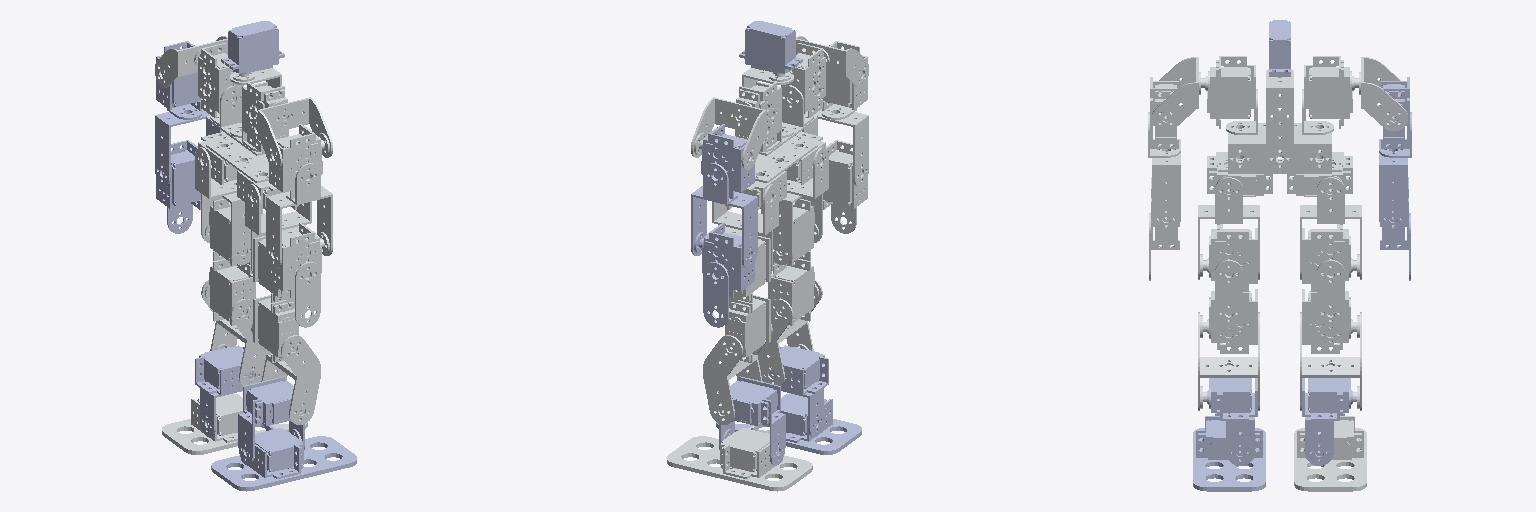
URDF robot description (robot_urdf):
<robot
  name="robot_urdf">
  <link
    name="base_link">
    <inertial>
      <origin
        xyz="-0.026014 -6.1062E-16 0.012412"
        rpy="0 0 0" />
      <mass
        value="0.26804" />
      <inertia
        ixx="0.00067143"
        ixy="1.6553E-15"
        ixz="2.7714E-05"
        iyy="0.00037219"
        iyz="1.5716E-15"
        izz="0.00039078" />
    </inertial>
    <visual>
      <origin
        xyz="0 0 0"
        rpy="0 0 0" />
      <geometry>
        <mesh
          filename="package://robot_urdf/meshes/base_link.STL" />
      </geometry>
      <material
        name="">
        <color
          rgba="0.89804 0.91765 0.92941 1" />
      </material>
    </visual>
    <collision>
      <origin
        xyz="0 0 0"
        rpy="0 0 0" />
      <geometry>
        <mesh
          filename="package://robot_urdf/meshes/base_link.STL" />
      </geometry>
    </collision>
  </link>
  <link
    name="head_1">
    <inertial>
      <origin
        xyz="0.0094985 -7.7138E-13 0.026213"
        rpy="0 0 0" />
      <mass
        value="0.030555" />
      <inertia
        ixx="4.56E-06"
        ixy="3.5175E-17"
        ixz="-8.9188E-08"
        iyy="7.9745E-06"
        iyz="2.2524E-16"
        izz="5.365E-06" />
    </inertial>
    <visual>
      <origin
        xyz="0 0 0"
        rpy="0 0 0" />
      <geometry>
        <mesh
          filename="package://robot_urdf/meshes/head_1.STL" />
      </geometry>
      <material
        name="">
        <color
          rgba="0.79216 0.81961 0.93333 1" />
      </material>
    </visual>
    <collision>
      <origin
        xyz="0 0 0"
        rpy="0 0 0" />
      <geometry>
        <mesh
          filename="package://robot_urdf/meshes/head_1.STL" />
      </geometry>
    </collision>
  </link>
  <joint
    name="joint_head_1"
    type="revolute">
    <origin
      xyz="-0.031 0 0.0685"
      rpy="-2.584E-16 7.2563E-16 8.3587E-16" />
    <parent
      link="base_link" />
    <child
      link="head_1" />
    <axis
      xyz="0 0 1" />
    <limit
      lower="-1.57"
      upper="1.57"
      effort="0"
      velocity="0" />
  </joint>
  <link
    name="right_hand_1">
    <inertial>
      <origin
        xyz="0.0020155 -0.012559 -0.0076349"
        rpy="0 0 0" />
      <mass
        value="0.021634" />
      <inertia
        ixx="6.3375E-06"
        ixy="6.9579E-07"
        ixz="5.9752E-07"
        iyy="1.3125E-05"
        iyz="-2.2288E-06"
        izz="1.3703E-05" />
    </inertial>
    <visual>
      <origin
        xyz="0 0 0"
        rpy="0 0 0" />
      <geometry>
        <mesh
          filename="package://robot_urdf/meshes/right_hand_1.STL" />
      </geometry>
      <material
        name="">
        <color
          rgba="0.89804 0.91765 0.92941 1" />
      </material>
    </visual>
    <collision>
      <origin
        xyz="0 0 0"
        rpy="0 0 0" />
      <geometry>
        <mesh
          filename="package://robot_urdf/meshes/right_hand_1.STL" />
      </geometry>
    </collision>
  </link>
  <joint
    name="joint_right_hand_1"
    type="revolute">
    <origin
      xyz="-0.031 -0.07075 0.05845"
      rpy="-4.9304E-32 3.8268E-16 0" />
    <parent
      link="base_link" />
    <child
      link="right_hand_1" />
    <axis
      xyz="0 1 0" />
    <limit
      lower="-3.14"
      upper="1.57"
      effort="0"
      velocity="0" />
  </joint>
  <link
    name="right_hand_2">
    <inertial>
      <origin
        xyz="-0.027049 -0.0021334 -0.030077"
        rpy="0 0 0" />
      <mass
        value="0.076885" />
      <inertia
        ixx="7.9207E-05"
        ixy="-4.3941E-07"
        ixz="6.9333E-06"
        iyy="9.5553E-05"
        iyz="2.7716E-06"
        izz="2.5515E-05" />
    </inertial>
    <visual>
      <origin
        xyz="0 0 0"
        rpy="0 0 0" />
      <geometry>
        <mesh
          filename="package://robot_urdf/meshes/right_hand_2.STL" />
      </geometry>
      <material
        name="">
        <color
          rgba="0.89804 0.91765 0.92941 1" />
      </material>
    </visual>
    <collision>
      <origin
        xyz="0 0 0"
        rpy="0 0 0" />
      <geometry>
        <mesh
          filename="package://robot_urdf/meshes/right_hand_2.STL" />
      </geometry>
    </collision>
  </link>
  <joint
    name="joint_right_hand_2"
    type="revolute">
    <origin
      xyz="0.025 -0.028517 -0.021339"
      rpy="0 1.6093E-15 0" />
    <parent
      link="right_hand_1" />
    <child
      link="right_hand_2" />
    <axis
      xyz="1 0 0" />
    <limit
      lower="-1.57"
      upper="1.25"
      effort="0"
      velocity="0" />
  </joint>
  <link
    name="right_hand_3">
    <inertial>
      <origin
        xyz="-0.028802 -0.003964 -0.013378"
        rpy="0 0 0" />
      <mass
        value="0.052976" />
      <inertia
        ixx="1.8917E-05"
        ixy="4.0398E-08"
        ixz="6.6663E-07"
        iyy="2.3107E-05"
        iyz="-2.1536E-06"
        izz="1.0756E-05" />
    </inertial>
    <visual>
      <origin
        xyz="0 0 0"
        rpy="0 0 0" />
      <geometry>
        <mesh
          filename="package://robot_urdf/meshes/right_hand_3.STL" />
      </geometry>
      <material
        name="">
        <color
          rgba="0.89804 0.91765 0.92941 1" />
      </material>
    </visual>
    <collision>
      <origin
        xyz="0 0 0"
        rpy="0 0 0" />
      <geometry>
        <mesh
          filename="package://robot_urdf/meshes/right_hand_3.STL" />
      </geometry>
    </collision>
  </link>
  <joint
    name="joint_right_hand_3"
    type="revolute">
    <origin
      xyz="0 0.0005 -0.0966"
      rpy="-1.8813E-15 -1.1659E-15 1.0546E-16" />
    <parent
      link="right_hand_2" />
    <child
      link="right_hand_3" />
    <axis
      xyz="1 0 0" />
    <limit
      lower="-1.57"
      upper="1.57"
      effort="0"
      velocity="0" />
  </joint>
  <link
    name="left_hand_1">
    <inertial>
      <origin
        xyz="0.0020155 0.012559 -0.0076349"
        rpy="0 0 0" />
      <mass
        value="0.021634" />
      <inertia
        ixx="6.3375E-06"
        ixy="-6.9579E-07"
        ixz="5.9752E-07"
        iyy="1.3125E-05"
        iyz="2.2288E-06"
        izz="1.3703E-05" />
    </inertial>
    <visual>
      <origin
        xyz="0 0 0"
        rpy="0 0 0" />
      <geometry>
        <mesh
          filename="package://robot_urdf/meshes/left_hand_1.STL" />
      </geometry>
      <material
        name="">
        <color
          rgba="0.89804 0.91765 0.92941 1" />
      </material>
    </visual>
    <collision>
      <origin
        xyz="0 0 0"
        rpy="0 0 0" />
      <geometry>
        <mesh
          filename="package://robot_urdf/meshes/left_hand_1.STL" />
      </geometry>
    </collision>
  </link>
  <joint
    name="joint_left_hand_1"
    type="revolute">
    <origin
      xyz="-0.031 0.07075 0.05845"
      rpy="-2.584E-16 -6.4535E-17 8.3587E-16" />
    <parent
      link="base_link" />
    <child
      link="left_hand_1" />
    <axis
      xyz="0 1 0" />
    <limit
      lower="-3.14"
      upper="1.57"
      effort="0"
      velocity="0" />
  </joint>
  <link
    name="left_hand_2">
    <inertial>
      <origin
        xyz="-0.027049 0.0021334 -0.030077"
        rpy="0 0 0" />
      <mass
        value="0.076885" />
      <inertia
        ixx="7.9207E-05"
        ixy="4.3941E-07"
        ixz="6.9333E-06"
        iyy="9.5553E-05"
        iyz="-2.7716E-06"
        izz="2.5515E-05" />
    </inertial>
    <visual>
      <origin
        xyz="0 0 0"
        rpy="0 0 0" />
      <geometry>
        <mesh
          filename="package://robot_urdf/meshes/left_hand_2.STL" />
      </geometry>
      <material
        name="">
        <color
          rgba="0.79216 0.81961 0.93333 1" />
      </material>
    </visual>
    <collision>
      <origin
        xyz="0 0 0"
        rpy="0 0 0" />
      <geometry>
        <mesh
          filename="package://robot_urdf/meshes/left_hand_2.STL" />
      </geometry>
    </collision>
  </link>
  <joint
    name="joint_left_hand_2"
    type="revolute">
    <origin
      xyz="0.025 0.028517 -0.021339"
      rpy="2.584E-16 2.022E-31 -8.3587E-16" />
    <parent
      link="left_hand_1" />
    <child
      link="left_hand_2" />
    <axis
      xyz="1 0 0" />
    <limit
      lower="-1.57"
      upper="1.25"
      effort="0"
      velocity="0" />
  </joint>
  <link
    name="left_hand_3">
    <inertial>
      <origin
        xyz="-0.028791 0.003964 -0.013378"
        rpy="0 0 0" />
      <mass
        value="0.052976" />
      <inertia
        ixx="1.8917E-05"
        ixy="-4.6738E-08"
        ixz="6.8211E-07"
        iyy="2.3112E-05"
        iyz="2.1536E-06"
        izz="1.0761E-05" />
    </inertial>
    <visual>
      <origin
        xyz="0 0 0"
        rpy="0 0 0" />
      <geometry>
        <mesh
          filename="package://robot_urdf/meshes/left_hand_3.STL" />
      </geometry>
      <material
        name="">
        <color
          rgba="0.79216 0.81961 0.93333 1" />
      </material>
    </visual>
    <collision>
      <origin
        xyz="0 0 0"
        rpy="0 0 0" />
      <geometry>
        <mesh
          filename="package://robot_urdf/meshes/left_hand_3.STL" />
      </geometry>
    </collision>
  </link>
  <joint
    name="joint_left_hand_3"
    type="revolute">
    <origin
      xyz="0 -0.0005 -0.0966"
      rpy="0 -1.6115E-15 0" />
    <parent
      link="left_hand_2" />
    <child
      link="left_hand_3" />
    <axis
      xyz="1 0 0" />
    <limit
      lower="-1.57"
      upper="1.57"
      effort="0"
      velocity="0" />
  </joint>
  <link
    name="right_leg_1">
    <inertial>
      <origin
        xyz="-0.023975 -0.0010249 -0.03898"
        rpy="0 0 0" />
      <mass
        value="0.042544" />
      <inertia
        ixx="4.3606E-05"
        ixy="-4.4687E-08"
        ixz="-1.6996E-06"
        iyy="4.0286E-05"
        iyz="-1.963E-06"
        izz="2.4473E-05" />
    </inertial>
    <visual>
      <origin
        xyz="0 0 0"
        rpy="0 0 0" />
      <geometry>
        <mesh
          filename="package://robot_urdf/meshes/right_leg_1.STL" />
      </geometry>
      <material
        name="">
        <color
          rgba="0.89804 0.91765 0.92941 1" />
      </material>
    </visual>
    <collision>
      <origin
        xyz="0 0 0"
        rpy="0 0 0" />
      <geometry>
        <mesh
          filename="package://robot_urdf/meshes/right_leg_1.STL" />
      </geometry>
    </collision>
  </link>
  <joint
    name="joint_right_leg_1"
    type="revolute">
    <origin
      xyz="0.004 -0.04435 -0.028"
      rpy="1.8457E-15 3.8268E-16 4.1426E-16" />
    <parent
      link="base_link" />
    <child
      link="right_leg_1" />
    <axis
      xyz="1 0 0" />
    <limit
      lower="-1.57"
      upper="1.57"
      effort="0"
      velocity="0" />
  </joint>
  <link
    name="right_leg_2">
    <inertial>
      <origin
        xyz="0.0032312 0.029057 -0.019963"
        rpy="0 0 0" />
      <mass
        value="0.099063" />
      <inertia
        ixx="0.00011361"
        ixy="-2.0421E-07"
        ixz="-2.0047E-08"
        iyy="0.00010487"
        iyz="-1.9602E-07"
        izz="2.0234E-05" />
    </inertial>
    <visual>
      <origin
        xyz="0 0 0"
        rpy="0 0 0" />
      <geometry>
        <mesh
          filename="package://robot_urdf/meshes/right_leg_2.STL" />
      </geometry>
      <material
        name="">
        <color
          rgba="0.89804 0.91765 0.92941 1" />
      </material>
    </visual>
    <collision>
      <origin
        xyz="0 0 0"
        rpy="0 0 0" />
      <geometry>
        <mesh
          filename="package://robot_urdf/meshes/right_leg_2.STL" />
      </geometry>
    </collision>
  </link>
  <joint
    name="joint_right_leg_2"
    type="revolute">
    <origin
      xyz="-0.025 -0.025 -0.084"
      rpy="1.6653E-15 -5.5511E-17 -1.2507E-15" />
    <parent
      link="right_leg_1" />
    <child
      link="right_leg_2" />
    <axis
      xyz="0 1 0" />
    <limit
      lower="-1.57"
      upper="1.57"
      effort="0"
      velocity="0" />
  </joint>
  <link
    name="right_leg_3">
    <inertial>
      <origin
        xyz="0.010766 0.022736 -0.031442"
        rpy="0 0 0" />
      <mass
        value="0.038521" />
      <inertia
        ixx="3.5399E-05"
        ixy="-5.7571E-07"
        ixz="1.8525E-06"
        iyy="1.8914E-05"
        iyz="-3.2324E-08"
        izz="2.2522E-05" />
    </inertial>
    <visual>
      <origin
        xyz="0 0 0"
        rpy="0 0 0" />
      <geometry>
        <mesh
          filename="package://robot_urdf/meshes/right_leg_3.STL" />
      </geometry>
      <material
        name="">
        <color
          rgba="0.89804 0.91765 0.92941 1" />
      </material>
    </visual>
    <collision>
      <origin
        xyz="0 0 0"
        rpy="0 0 0" />
      <geometry>
        <mesh
          filename="package://robot_urdf/meshes/right_leg_3.STL" />
      </geometry>
    </collision>
  </link>
  <joint
    name="joint_right_leg_3"
    type="revolute">
    <origin
      xyz="0 0 -0.059"
      rpy="-2.0295E-15 -9.1175E-31 1.9364E-15" />
    <parent
      link="right_leg_2" />
    <child
      link="right_leg_3" />
    <axis
      xyz="0 1 0" />
    <limit
      lower="-1.57"
      upper="1.57"
      effort="0"
      velocity="0" />
  </joint>
  <link
    name="right_leg_4">
    <inertial>
      <origin
        xyz="-0.0088796 0.030994 -0.0098426"
        rpy="0 0 0" />
      <mass
        value="0.064833" />
      <inertia
        ixx="2.331E-05"
        ixy="-7.0675E-08"
        ixz="1.5242E-06"
        iyy="3.2842E-05"
        iyz="2.2093E-06"
        izz="2.6247E-05" />
    </inertial>
    <visual>
      <origin
        xyz="0 0 0"
        rpy="0 0 0" />
      <geometry>
        <mesh
          filename="package://robot_urdf/meshes/right_leg_4.STL" />
      </geometry>
      <material
        name="">
        <color
          rgba="0.79216 0.81961 0.93333 1" />
      </material>
    </visual>
    <collision>
      <origin
        xyz="0 0 0"
        rpy="0 0 0" />
      <geometry>
        <mesh
          filename="package://robot_urdf/meshes/right_leg_4.STL" />
      </geometry>
    </collision>
  </link>
  <joint
    name="joint_right_leg_4"
    type="revolute">
    <origin
      xyz="0.008328 0 -0.063626"
      rpy="1.9207E-16 -2.5376E-16 4.6465E-16" />
    <parent
      link="right_leg_3" />
    <child
      link="right_leg_4" />
    <axis
      xyz="0 1 0" />
    <limit
      lower="-1.57"
      upper="1.57"
      effort="0"
      velocity="0" />
  </joint>
  <link
    name="right_leg_5">
    <inertial>
      <origin
        xyz="-0.022794 -0.0096022 -0.010163"
        rpy="0 0 0" />
      <mass
        value="0.11322" />
      <inertia
        ixx="3.9994E-05"
        ixy="-6.3439E-08"
        ixz="3.6969E-06"
        iyy="0.00010224"
        iyz="-4.9441E-08"
        izz="0.00012785" />
    </inertial>
    <visual>
      <origin
        xyz="0 0 0"
        rpy="0 0 0" />
      <geometry>
        <mesh
          filename="package://robot_urdf/meshes/right_leg_5.STL" />
      </geometry>
      <material
        name="">
        <color
          rgba="0.79216 0.81961 0.93333 1" />
      </material>
    </visual>
    <collision>
      <origin
        xyz="0 0 0"
        rpy="0 0 0" />
      <geometry>
        <mesh
          filename="package://robot_urdf/meshes/right_leg_5.STL" />
      </geometry>
    </collision>
  </link>
  <joint
    name="joint_right_leg_5"
    type="revolute">
    <origin
      xyz="0.0154 0.035 -0.0455"
      rpy="0 1.6494E-32 0" />
    <parent
      link="right_leg_4" />
    <child
      link="right_leg_5" />
    <axis
      xyz="1 0 0" />
    <limit
      lower="-1.57"
      upper="1.57"
      effort="0"
      velocity="0" />
  </joint>
  <link
    name="left_leg_1">
    <inertial>
      <origin
        xyz="-0.023975 0.0010249 -0.03898"
        rpy="0 0 0" />
      <mass
        value="0.042544" />
      <inertia
        ixx="4.3606E-05"
        ixy="4.4687E-08"
        ixz="-1.6996E-06"
        iyy="4.0286E-05"
        iyz="1.963E-06"
        izz="2.4473E-05" />
    </inertial>
    <visual>
      <origin
        xyz="0 0 0"
        rpy="0 0 0" />
      <geometry>
        <mesh
          filename="package://robot_urdf/meshes/left_leg_1.STL" />
      </geometry>
      <material
        name="">
        <color
          rgba="0.89804 0.91765 0.92941 1" />
      </material>
    </visual>
    <collision>
      <origin
        xyz="0 0 0"
        rpy="0 0 0" />
      <geometry>
        <mesh
          filename="package://robot_urdf/meshes/left_leg_1.STL" />
      </geometry>
    </collision>
  </link>
  <joint
    name="joint_left_leg_1"
    type="revolute">
    <origin
      xyz="0.004 0.04435 -0.028"
      rpy="1.8457E-15 1.5211E-16 4.1426E-16" />
    <parent
      link="base_link" />
    <child
      link="left_leg_1" />
    <axis
      xyz="1 0 0" />
    <limit
      lower="-1.57"
      upper="1.57"
      effort="0"
      velocity="0" />
  </joint>
  <link
    name="left_leg_2">
    <inertial>
      <origin
        xyz="0.0032312 -0.029057 -0.019963"
        rpy="0 0 0" />
      <mass
        value="0.099063" />
      <inertia
        ixx="0.00011361"
        ixy="2.0421E-07"
        ixz="-2.0047E-08"
        iyy="0.00010487"
        iyz="1.9602E-07"
        izz="2.0234E-05" />
    </inertial>
    <visual>
      <origin
        xyz="0 0 0"
        rpy="0 0 0" />
      <geometry>
        <mesh
          filename="package://robot_urdf/meshes/left_leg_2.STL" />
      </geometry>
      <material
        name="">
        <color
          rgba="0.89804 0.91765 0.92941 1" />
      </material>
    </visual>
    <collision>
      <origin
        xyz="0 0 0"
        rpy="0 0 0" />
      <geometry>
        <mesh
          filename="package://robot_urdf/meshes/left_leg_2.STL" />
      </geometry>
    </collision>
  </link>
  <joint
    name="joint_left_leg_2"
    type="revolute">
    <origin
      xyz="-0.025 0.025 -0.084"
      rpy="-3.6421E-16 5.5037E-17 6.8572E-16" />
    <parent
      link="left_leg_1" />
    <child
      link="left_leg_2" />
    <axis
      xyz="0 1 0" />
    <limit
      lower="-1.57"
      upper="1.57"
      effort="0"
      velocity="0" />
  </joint>
  <link
    name="left_leg_3">
    <inertial>
      <origin
        xyz="0.010766 -0.022736 -0.031442"
        rpy="0 0 0" />
      <mass
        value="0.038521" />
      <inertia
        ixx="3.5399E-05"
        ixy="5.7571E-07"
        ixz="1.8525E-06"
        iyy="1.8914E-05"
        iyz="3.2324E-08"
        izz="2.2522E-05" />
    </inertial>
    <visual>
      <origin
        xyz="0 0 0"
        rpy="0 0 0" />
      <geometry>
        <mesh
          filename="package://robot_urdf/meshes/left_leg_3.STL" />
      </geometry>
      <material
        name="">
        <color
          rgba="0.89804 0.91765 0.92941 1" />
      </material>
    </visual>
    <collision>
      <origin
        xyz="0 0 0"
        rpy="0 0 0" />
      <geometry>
        <mesh
          filename="package://robot_urdf/meshes/left_leg_3.STL" />
      </geometry>
    </collision>
  </link>
  <joint
    name="joint_left_leg_3"
    type="revolute">
    <origin
      xyz="0 0 -0.059"
      rpy="0 9.4717E-33 0" />
    <parent
      link="left_leg_2" />
    <child
      link="left_leg_3" />
    <axis
      xyz="0 1 0" />
    <limit
      lower="-1.57"
      upper="1.57"
      effort="0"
      velocity="0" />
  </joint>
  <link
    name="left_leg_4">
    <inertial>
      <origin
        xyz="-0.0088796 -0.030994 -0.0098426"
        rpy="0 0 0" />
      <mass
        value="0.064833" />
      <inertia
        ixx="2.331E-05"
        ixy="7.0675E-08"
        ixz="1.5242E-06"
        iyy="3.2842E-05"
        iyz="-2.2093E-06"
        izz="2.6247E-05" />
    </inertial>
    <visual>
      <origin
        xyz="0 0 0"
        rpy="0 0 0" />
      <geometry>
        <mesh
          filename="package://robot_urdf/meshes/left_leg_4.STL" />
      </geometry>
      <material
        name="">
        <color
          rgba="0.79216 0.81961 0.93333 1" />
      </material>
    </visual>
    <collision>
      <origin
        xyz="0 0 0"
        rpy="0 0 0" />
      <geometry>
        <mesh
          filename="package://robot_urdf/meshes/left_leg_4.STL" />
      </geometry>
    </collision>
  </link>
  <joint
    name="joint_left_leg_4"
    type="revolute">
    <origin
      xyz="0.008328 0 -0.063626"
      rpy="1.9207E-16 -4.4525E-31 4.6465E-16" />
    <parent
      link="left_leg_3" />
    <child
      link="left_leg_4" />
    <axis
      xyz="0 1 0" />
    <limit
      lower="-1.57"
      upper="1.57"
      effort="0"
      velocity="0" />
  </joint>
  <link
    name="left_leg_5">
    <inertial>
      <origin
        xyz="-0.022794 0.0096753 -0.010163"
        rpy="0 0 0" />
      <mass
        value="0.11322" />
      <inertia
        ixx="3.9994E-05"
        ixy="5.299E-08"
        ixz="3.6969E-06"
        iyy="0.00010224"
        iyz="8.0494E-08"
        izz="0.00012785" />
    </inertial>
    <visual>
      <origin
        xyz="0 0 0"
        rpy="0 0 0" />
      <geometry>
        <mesh
          filename="package://robot_urdf/meshes/left_leg_5.STL" />
      </geometry>
      <material
        name="">
        <color
          rgba="0.89804 0.91765 0.92941 1" />
      </material>
    </visual>
    <collision>
      <origin
        xyz="0 0 0"
        rpy="0 0 0" />
      <geometry>
        <mesh
          filename="package://robot_urdf/meshes/left_leg_5.STL" />
      </geometry>
    </collision>
  </link>
  <joint
    name="joint_left_leg_5"
    type="revolute">
    <origin
      xyz="0.0154 -0.035 -0.0455"
      rpy="-3.1116E-15 5.0166E-16 5.6359E-16" />
    <parent
      link="left_leg_4" />
    <child
      link="left_leg_5" />
    <axis
      xyz="1 0 0" />
    <limit
      lower="-1.57"
      upper="1.57"
      effort="0"
      velocity="0" />
  </joint>
</robot>

--- Render facts (derived) ---
3 views of the same robot in one strip: view 1: azimuth 30°, elevation 25°; view 2: azimuth 150°, elevation 25°; view 3: azimuth 270°, elevation 25° (orthographic).
Model robot_urdf with 18 links and 17 joints (17 revolute), rooted at base_link, posed every joint at zero.
Visible links, largest first — view 1: base_link, right_hand_2, right_leg_5, right_hand_3, left_leg_2, left_hand_2, right_leg_2, right_leg_4, right_leg_3, left_leg_5, left_leg_4, left_leg_1 (+6 smaller); view 2: base_link, left_hand_2, left_leg_5, left_hand_3, right_leg_2, right_hand_2, left_leg_2, left_leg_4, left_leg_3, right_leg_5, right_leg_4, right_leg_1 (+6 smaller); view 3: base_link, right_leg_2, left_leg_2, right_leg_5, left_leg_5, left_hand_2, right_hand_2, right_leg_4, left_leg_4, right_hand_1, left_hand_1, right_leg_1 (+6 smaller).
Boxes of the visible links, <box> form: base_link: <box>198,43,298,213</box>; right_hand_2: <box>266,124,332,268</box>; right_leg_5: <box>211,426,356,491</box>; right_hand_3: <box>269,222,321,327</box>; left_leg_2: <box>209,199,255,325</box>; left_hand_2: <box>155,41,221,186</box>; right_leg_2: <box>253,236,300,362</box>; right_leg_4: <box>238,376,305,465</box>; right_leg_3: <box>251,324,320,424</box>; left_leg_5: <box>162,393,307,454</box>; left_leg_4: <box>195,345,262,437</box>; left_leg_1: <box>195,147,250,264</box>; base_link: <box>725,43,825,213</box>; left_hand_2: <box>691,124,757,268</box>; left_leg_5: <box>667,426,812,491</box>; left_hand_3: <box>702,222,754,327</box>; right_leg_2: <box>768,199,814,325</box>; right_hand_2: <box>802,41,868,186</box>; left_leg_2: <box>723,236,770,362</box>; left_leg_4: <box>718,376,785,465</box>; left_leg_3: <box>703,324,772,424</box>; right_leg_5: <box>716,393,861,454</box>; right_leg_4: <box>761,345,828,436</box>; right_leg_1: <box>773,147,828,264</box>; base_link: <box>1205,56,1354,196</box>; right_leg_2: <box>1207,224,1257,353</box>; left_leg_2: <box>1302,224,1352,353</box>; right_leg_5: <box>1193,416,1265,491</box>; left_leg_5: <box>1294,416,1366,491</box>; left_hand_2: <box>1379,77,1411,231</box>; right_hand_2: <box>1148,77,1180,231</box>; right_leg_4: <box>1207,378,1257,465</box>; left_leg_4: <box>1302,378,1352,465</box>; right_hand_1: <box>1152,57,1204,130</box>; left_hand_1: <box>1355,57,1407,130</box>; right_leg_1: <box>1198,177,1259,279</box>.
Size in the robot's own frame: 0.1235 by 0.2295 by 0.4113 metres.
18 mesh visuals loaded from 18 distinct referenced files (18 binary STL).